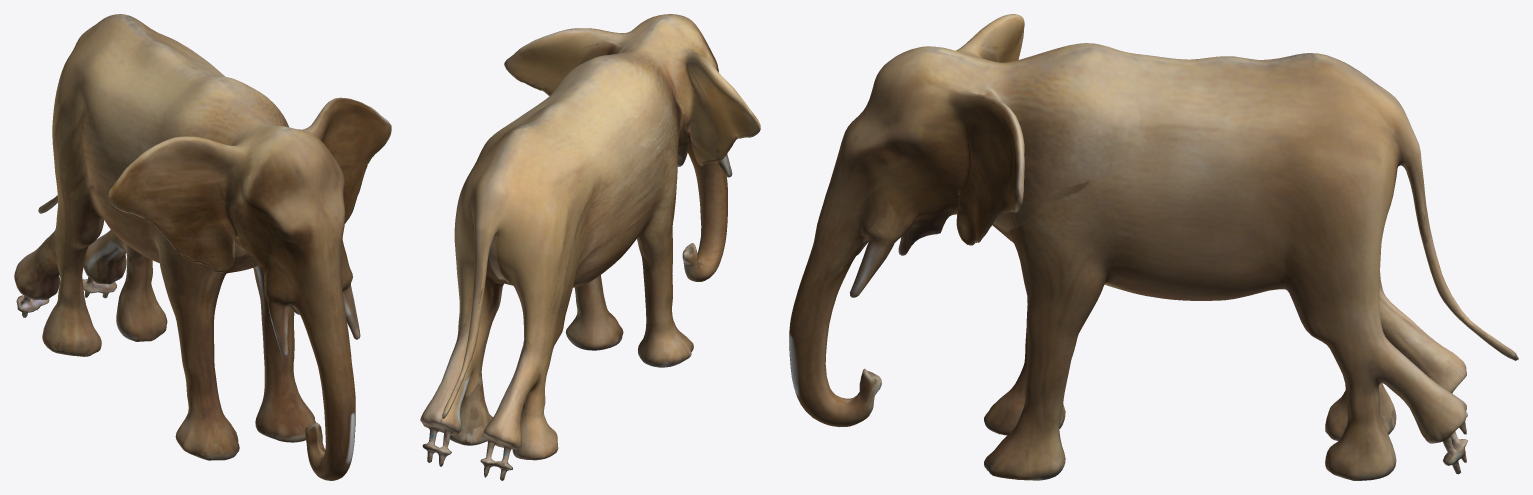
The model's file is Wooden_Elephant_Sculp_1022213927.fbx.
The picture shows the model from 3 angles, left to right: view 1: azimuth 30°, elevation 25°; view 2: azimuth 150°, elevation 25°; view 3: azimuth 270°, elevation 25°; orthographic projection. The views are drawn at different scales.
Parts seen in each view (by area): view 1: Mesh_0; view 2: Mesh_0; view 3: Mesh_0.
Boxes of the visible parts, left/top/right/bottom form: Mesh_0: left=14, top=14, right=391, bottom=480; Mesh_0: left=420, top=14, right=760, bottom=480; Mesh_0: left=789, top=14, right=1518, bottom=480.
Size of the model in its own units: 108 by 124 by 203.
Materials: 1 (1 with a texture image).
